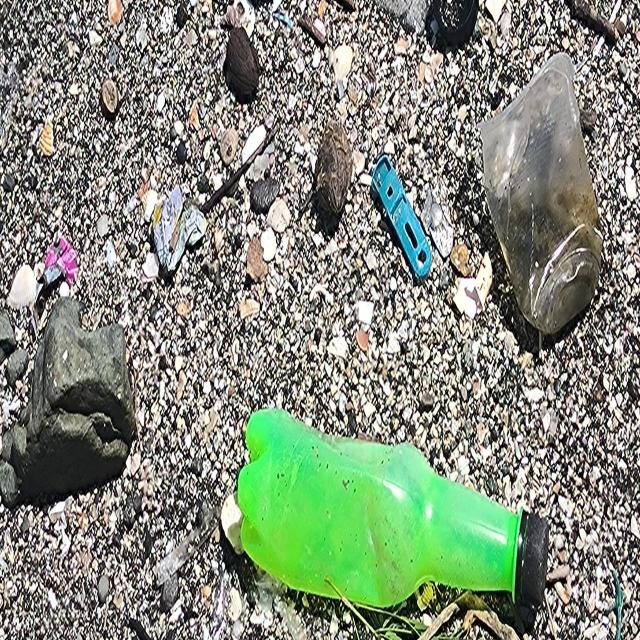plastic_waste: (239, 408, 551, 614), (479, 54, 604, 334)
